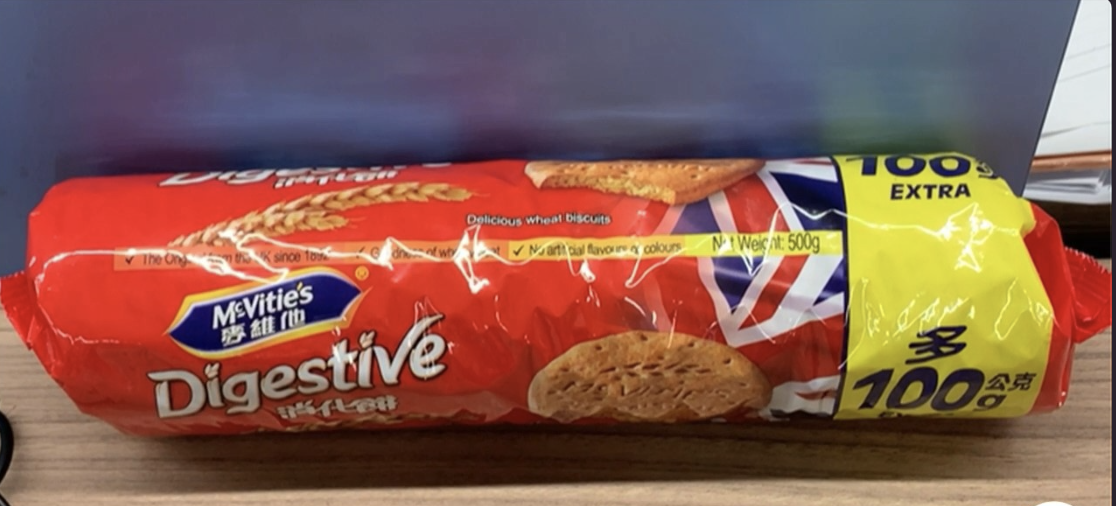cookies_450g: (126, 194, 1039, 416)
